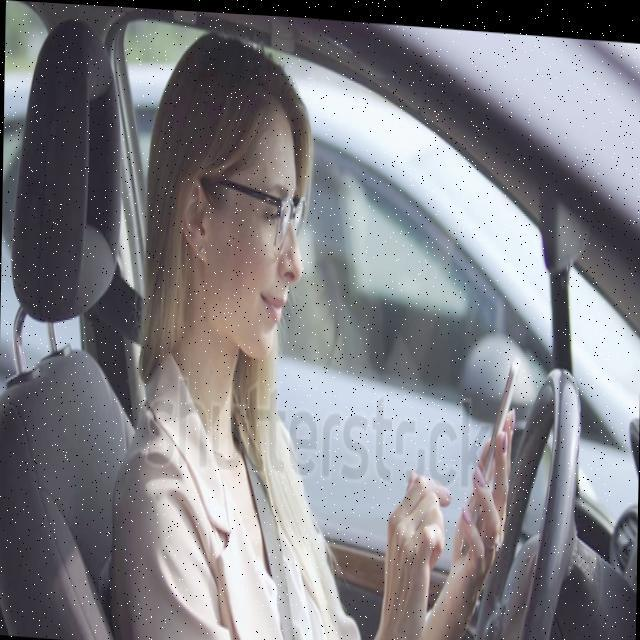PhoneCall: (459, 346, 523, 558)
